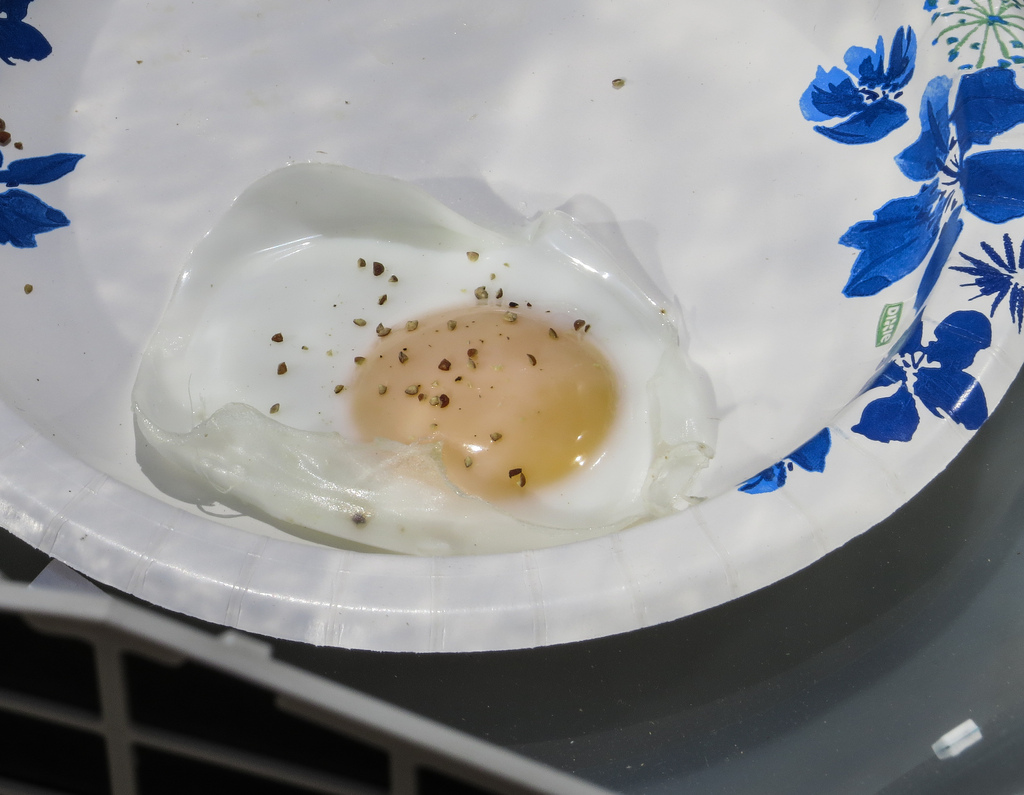fried egg: (206, 186, 667, 548)
